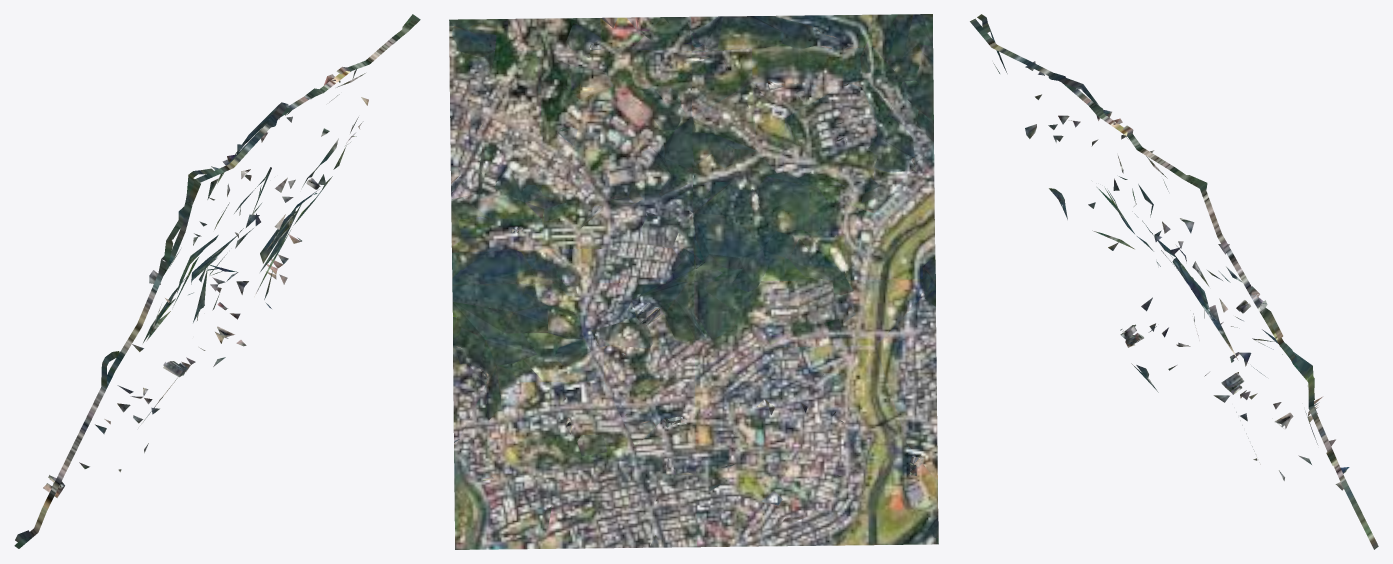
The picture shows the model from 3 angles, left to right: view 1: azimuth 30°, elevation 25°; view 2: azimuth 150°, elevation 25°; view 3: azimuth 270°, elevation 25°; orthographic projection. The views are drawn at different scales.
Bounding box in the file's own units: 2454 × 2262 × 2024.
1 material, 1 textured.
